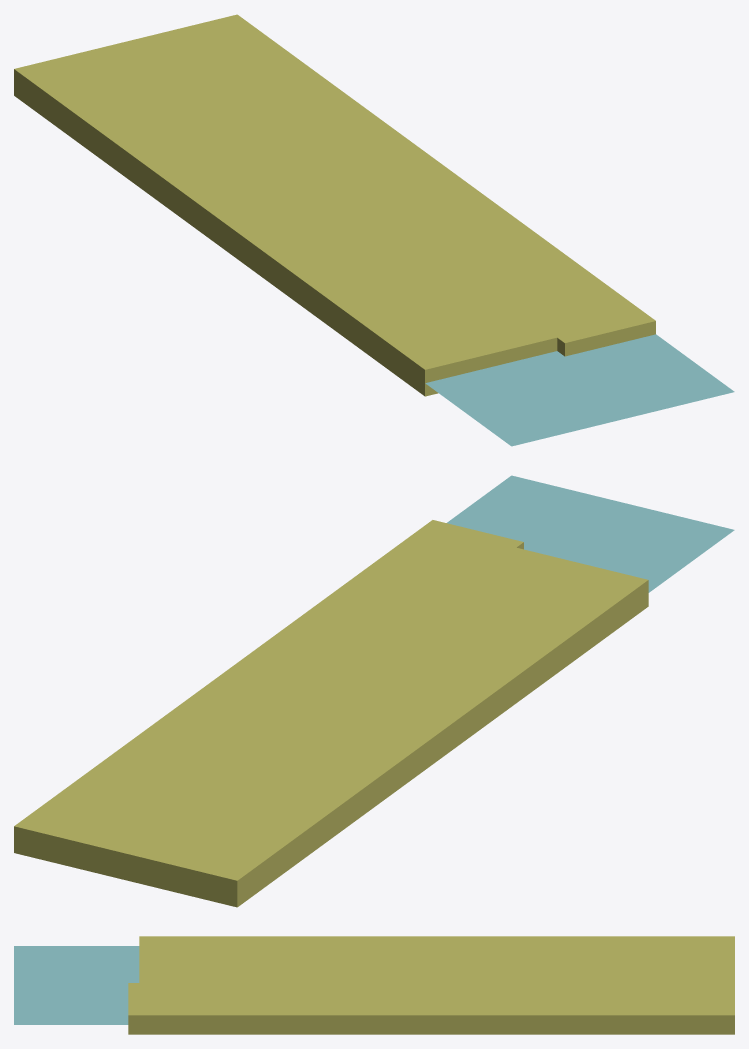
Rendered from Tile_Beach_05.fbx.
3 views of the same model, one above another, from view 1: azimuth 30°, elevation 25°; view 2: azimuth 150°, elevation 25°; view 3: azimuth 270°, elevation 25° (orthographic). The views are drawn at different scales.
Visible parts, largest first — view 1: Strand_05, Water5; view 2: Strand_05, Water5; view 3: Strand_05, Water5.
Part boxes in pixels (box(x1,y1,x2,y2)): Strand_05: box(14, 14, 655, 396); Water5: box(425, 334, 734, 446); Strand_05: box(14, 520, 648, 907); Water5: box(447, 475, 734, 592); Strand_05: box(128, 936, 734, 1034); Water5: box(14, 946, 139, 1024).
Bounding box in the file's own units: 35 × 4 × 135.
